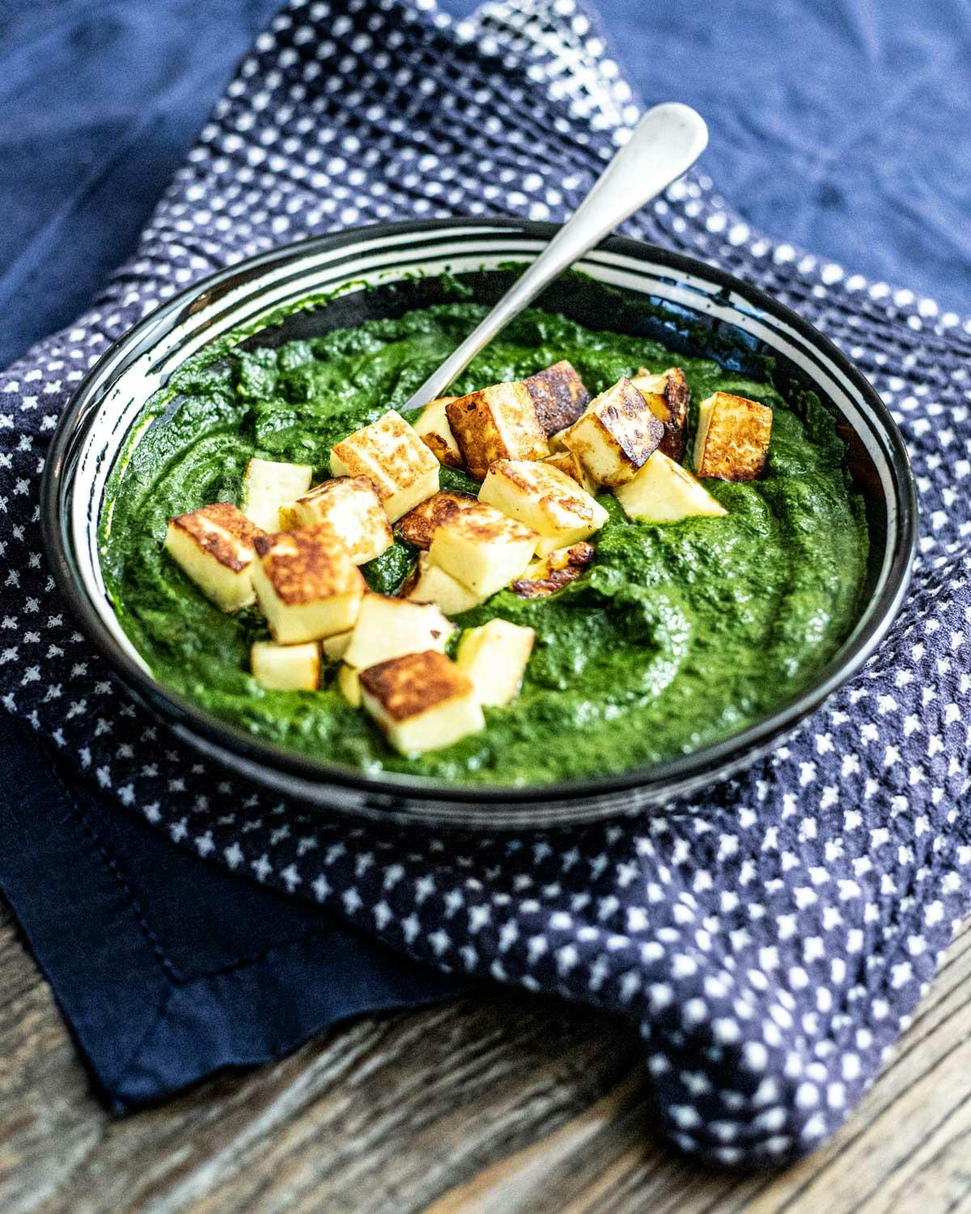PalakPaneer: (106, 285, 873, 776)
